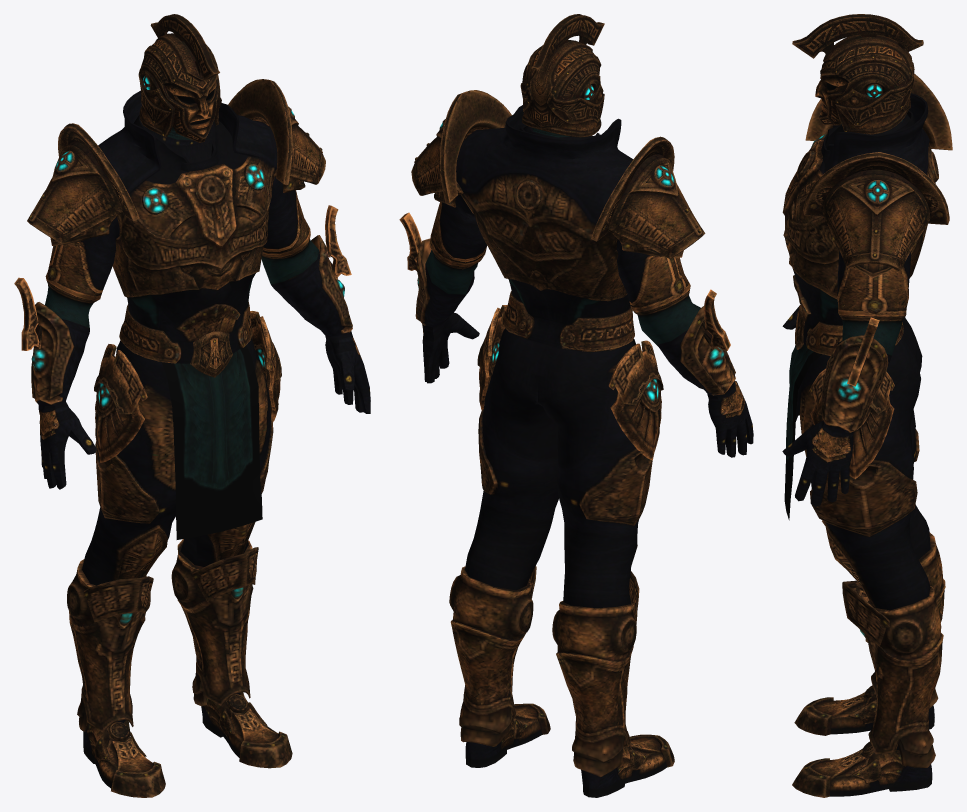
Rendered from arkthzand_medium_armor.glb.
3 views of the same model, side by side, from view 1: azimuth 30°, elevation 25°; view 2: azimuth 150°, elevation 25°; view 3: azimuth 270°, elevation 25° (orthographic).
Parts seen in each view (by area): view 1: Arkthzand_Medium_Armor; view 2: Arkthzand_Medium_Armor; view 3: Arkthzand_Medium_Armor.
Boxes of the visible parts, box(x1,y1,x2,y2) form: Arkthzand_Medium_Armor: box(14, 14, 370, 797); Arkthzand_Medium_Armor: box(399, 14, 753, 797); Arkthzand_Medium_Armor: box(782, 14, 952, 797).
Bounding box in the file's own units: 1.05 × 2.3 × 0.4786.
Materials: 1 (1 with a texture image).
